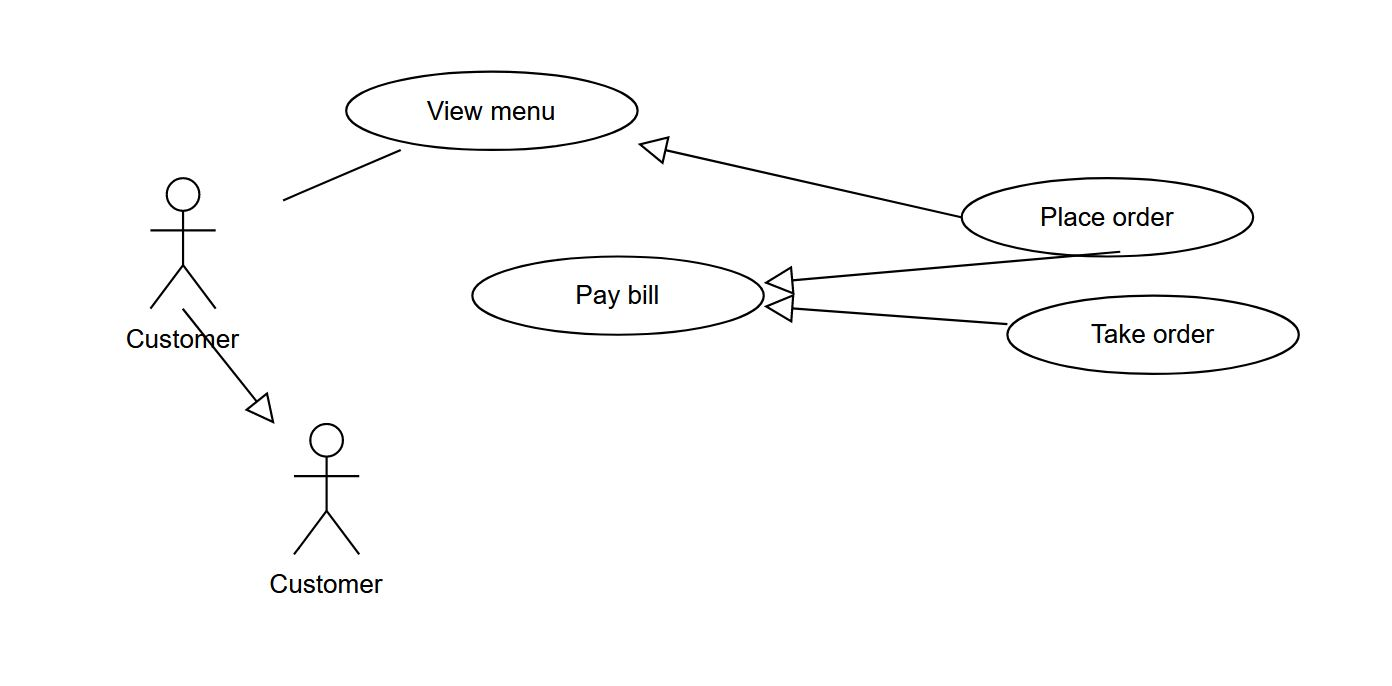actor: (285, 420, 364, 556), (145, 176, 219, 312)
association: (280, 148, 398, 202)
generalization: (635, 133, 959, 216), (763, 250, 1113, 293), (765, 292, 1009, 337)
text: (419, 93, 559, 128), (1085, 315, 1216, 349), (1035, 203, 1175, 234), (120, 323, 248, 353), (264, 571, 388, 601), (566, 276, 665, 311)
use_case: (1006, 293, 1302, 378), (344, 69, 638, 151), (962, 177, 1254, 257), (472, 256, 764, 334)
